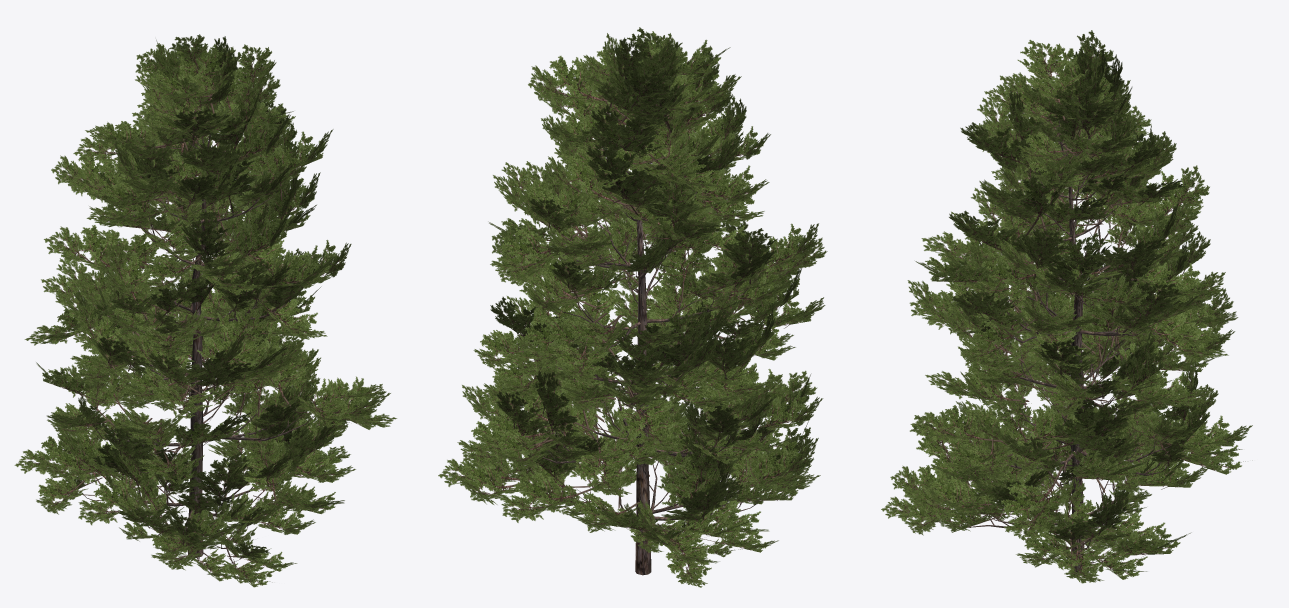
The model's file is noble_fir.glb.
3 renders of one model, left to right at view 1: azimuth 30°, elevation 25°; view 2: azimuth 150°, elevation 25°; view 3: azimuth 270°, elevation 25°, orthographic. The views are drawn at different scales.
Visible parts, largest first — view 1: Object_10; view 2: Object_10; view 3: Object_10.
Part boxes in pixels (<box>): Object_10: <box>14,34,396,587</box>; Object_10: <box>438,27,827,587</box>; Object_10: <box>881,30,1252,583</box>.
Bounding box in the file's own units: 5.27 × 7.45 × 5.05.
2 materials, 2 textured.
